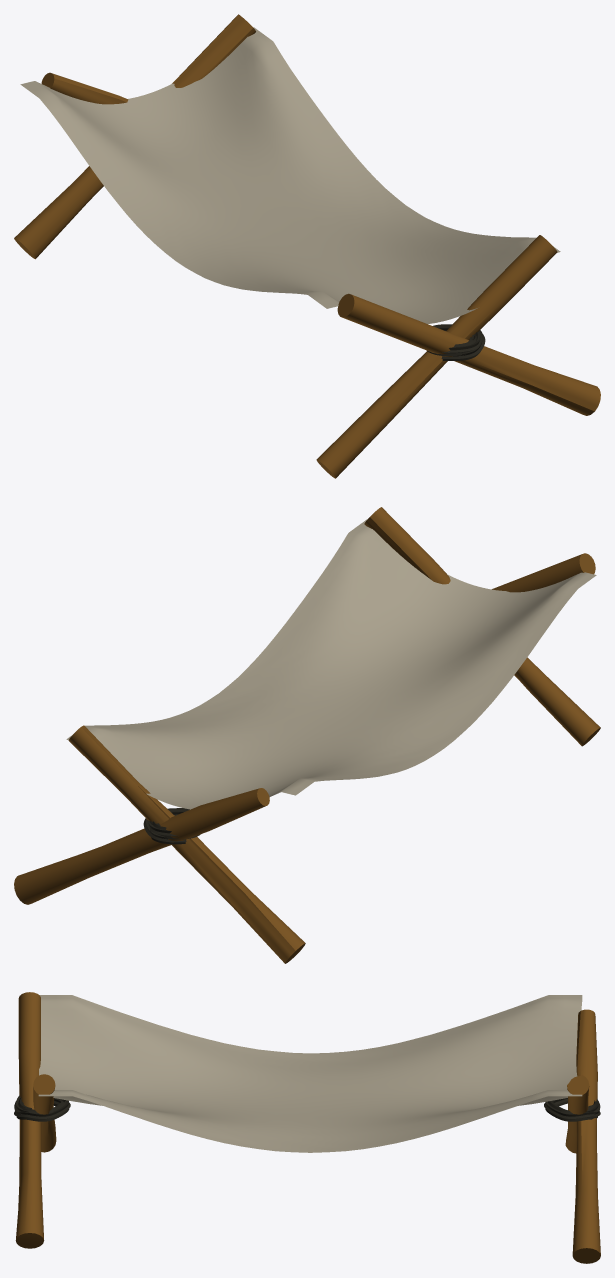
Rendered from bed2.fbx.
3 views of the same model, one above another, from view 1: azimuth 30°, elevation 25°; view 2: azimuth 150°, elevation 25°; view 3: azimuth 270°, elevation 25° (orthographic). The views are drawn at different scales.
Parts seen in each view (by area): view 1: Plane, left, left2, right, right2, rope; view 2: Plane, right, right2, left, left2, rope; view 3: Plane, left2, right2, rope, left, right.
Boxes of the visible parts, x1=… form: Plane: x1=20, y1=27, x2=560, y2=323; left: x1=316, y1=235, x2=557, y2=478; left2: x1=337, y1=293, x2=600, y2=415; right: x1=14, y1=14, x2=255, y2=259; right2: x1=41, y1=72, x2=128, y2=104; rope: x1=427, y1=324, x2=485, y2=360; Plane: x1=66, y1=519, x2=596, y2=809; right: x1=68, y1=725, x2=305, y2=963; right2: x1=14, y1=788, x2=269, y2=904; left: x1=364, y1=507, x2=600, y2=746; left2: x1=492, y1=553, x2=595, y2=592; rope: x1=143, y1=808, x2=200, y2=844; Plane: x1=38, y1=995, x2=582, y2=1152; left2: x1=15, y1=992, x2=44, y2=1248; right2: x1=572, y1=1009, x2=600, y2=1263; rope: x1=14, y1=1095, x2=600, y2=1121; left: x1=33, y1=1074, x2=56, y2=1152; right: x1=565, y1=1075, x2=589, y2=1153.
Bounding box in the file's own units: 159 × 101 × 318.
